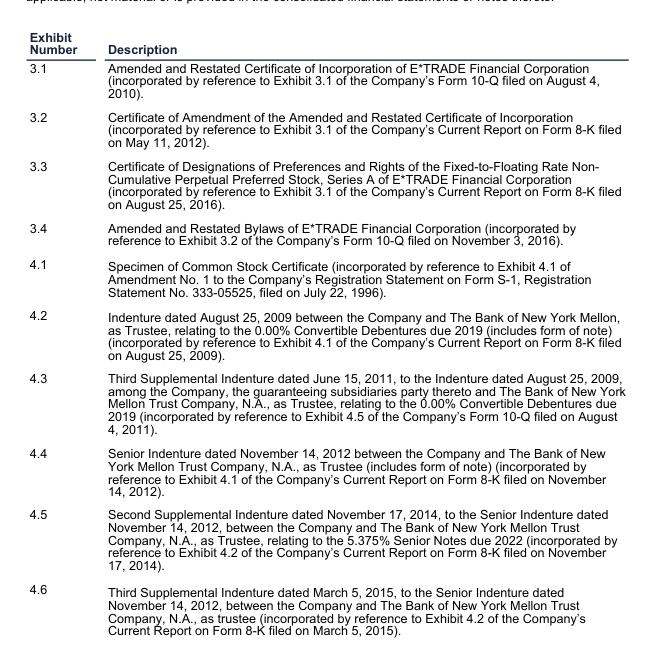table: (28, 29, 624, 636)
table column: (91, 29, 624, 636), (28, 29, 91, 636)
table column header: (28, 29, 624, 58)
table row: (28, 366, 624, 440), (28, 502, 624, 576), (28, 302, 624, 366), (28, 153, 624, 215), (28, 440, 624, 502), (28, 576, 624, 636), (28, 252, 624, 302), (28, 104, 624, 153), (28, 58, 624, 104), (28, 215, 624, 252), (28, 29, 624, 58)
